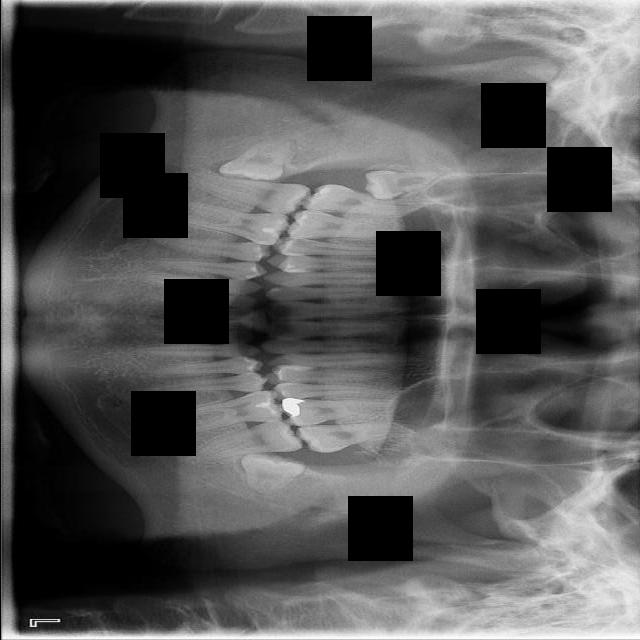3M ESPE Implant: (364, 171, 464, 201)
73: (17, 620, 23, 628)
BioHorizons Implant: (294, 421, 413, 453)
Biomet 3i Implant: (233, 447, 306, 504)
Blue Sky Bio Implant: (191, 417, 302, 464)
Caries: (299, 183, 424, 220)
Implant: (194, 173, 310, 219)
Keystone Dental Implant: (216, 125, 305, 203)
